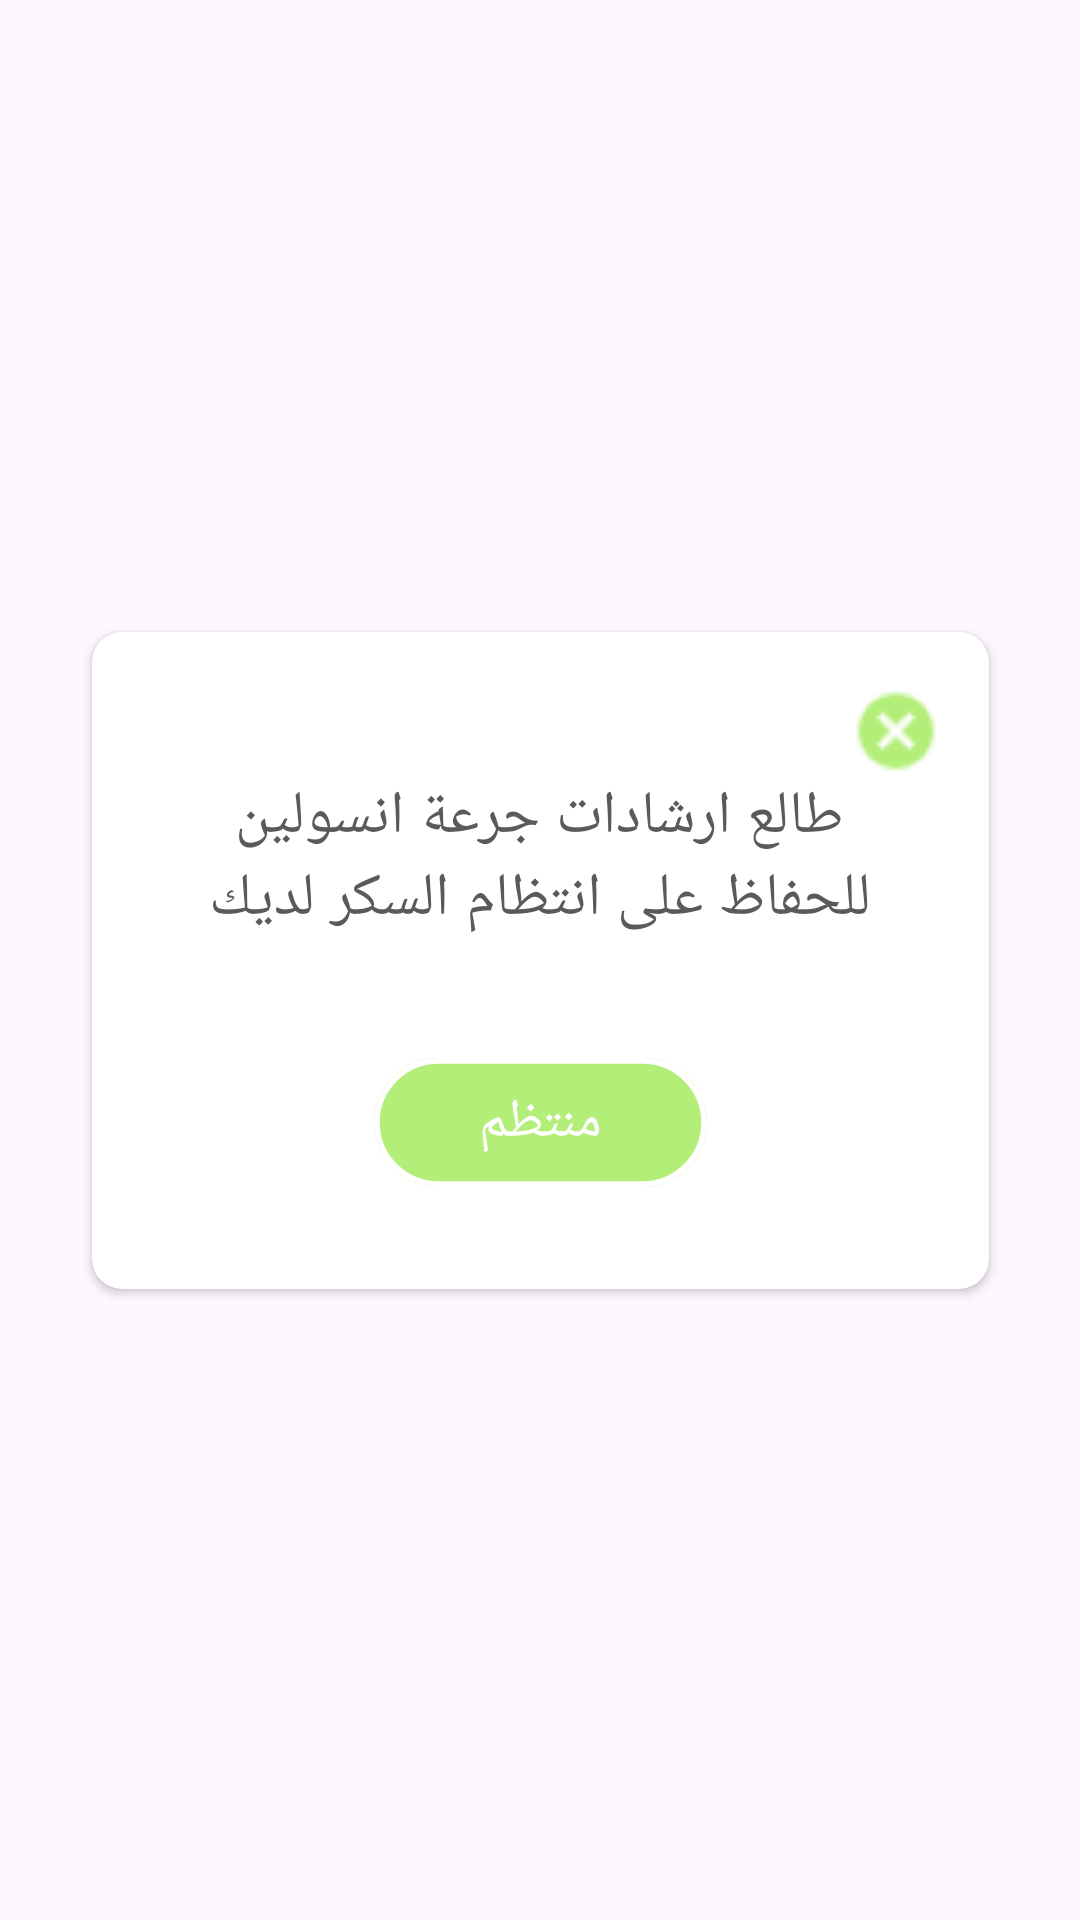

Where to tap for icons on this 1080*1920 app screen, as (x=x, y=y):
cancel: (x=896, y=731)
